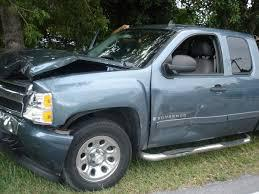bonnet-dent: (21, 50, 112, 75)
doorouter-dent: (160, 77, 224, 149)
front-bumper-dent: (3, 116, 79, 176)
